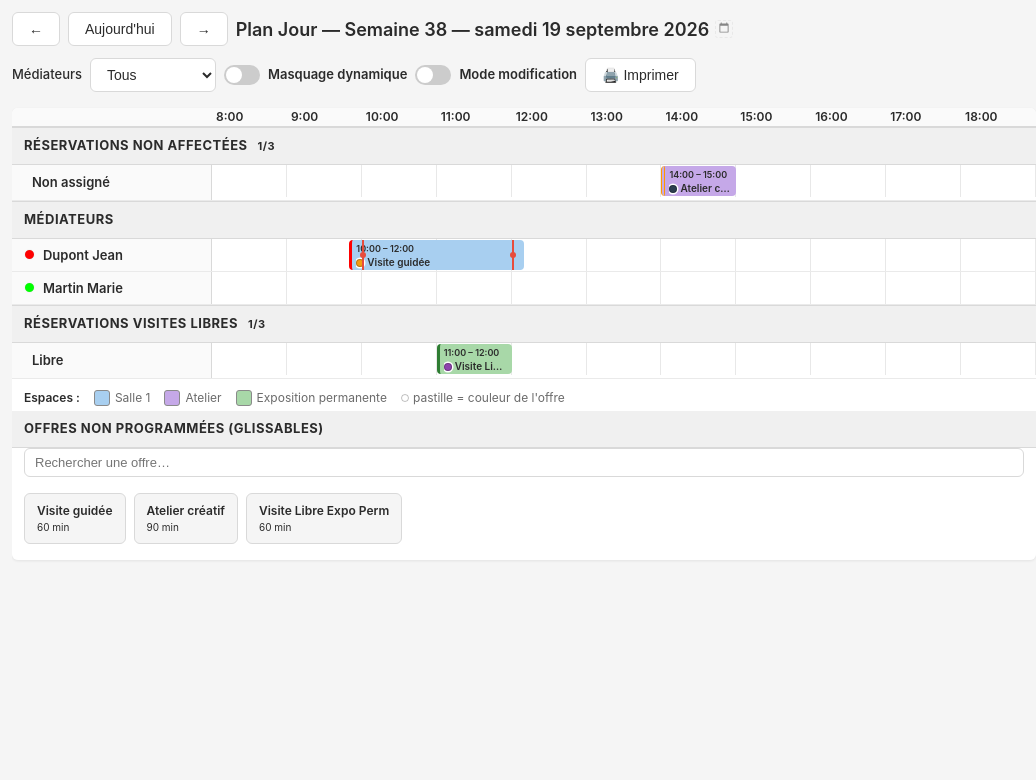
Test: DailyView › mediator filter › should show a specific mediator when one is selected
The width and height of the screenshot is (1036, 780).
Select "Martin Marie" in the dropdown with id "daily-mediator-filter". click: {"x": 153, "y": 75}
box: [90,58,216,92]
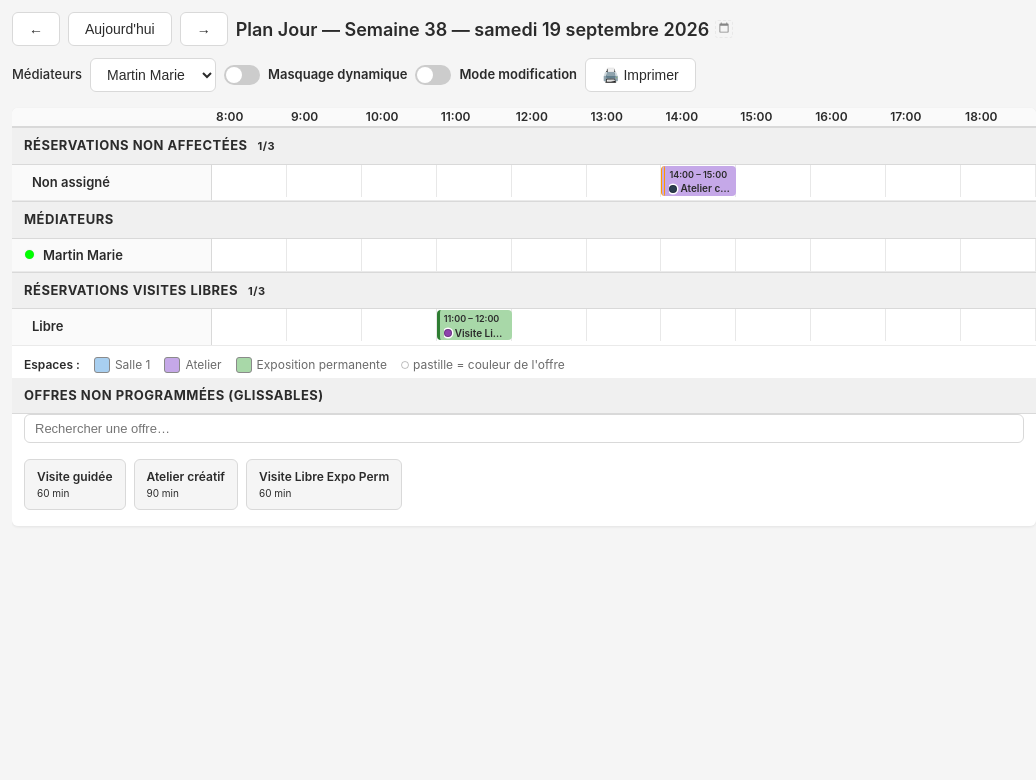
Expected: the element with class "daily-mediator-row" shows "Martin Marie", [12,238,1035,272]
Now the number of elements with class "daily-mediator-row" is 1, box [12,238,1035,272]
